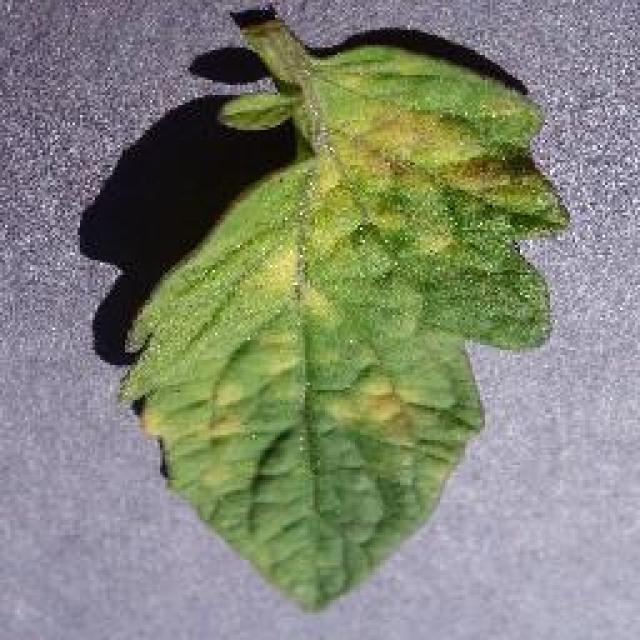leaf mold: (119, 12, 569, 608)
